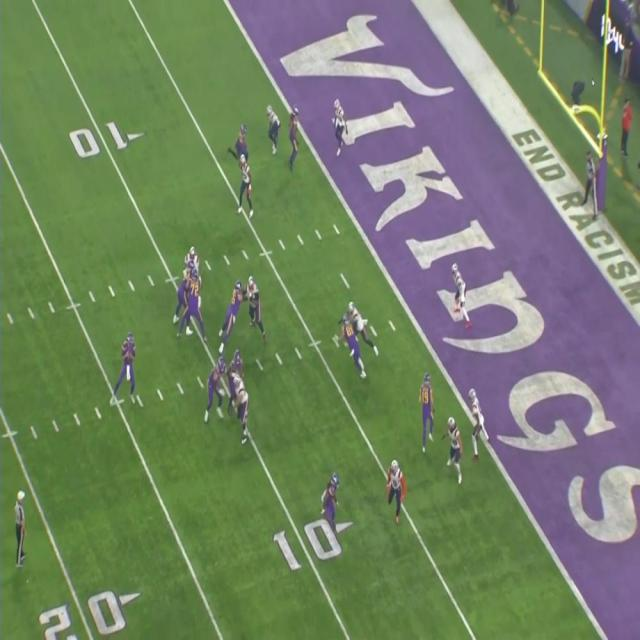db: (621, 98, 637, 173), (471, 394, 488, 458), (454, 264, 470, 330), (235, 157, 252, 218), (330, 96, 347, 154), (266, 102, 284, 155)
lb: (348, 298, 378, 357), (386, 458, 404, 510), (448, 417, 462, 474)
qb: (120, 332, 137, 400)
skill: (342, 313, 366, 380), (323, 467, 342, 531), (286, 102, 304, 166), (418, 372, 436, 433), (235, 120, 249, 166)
